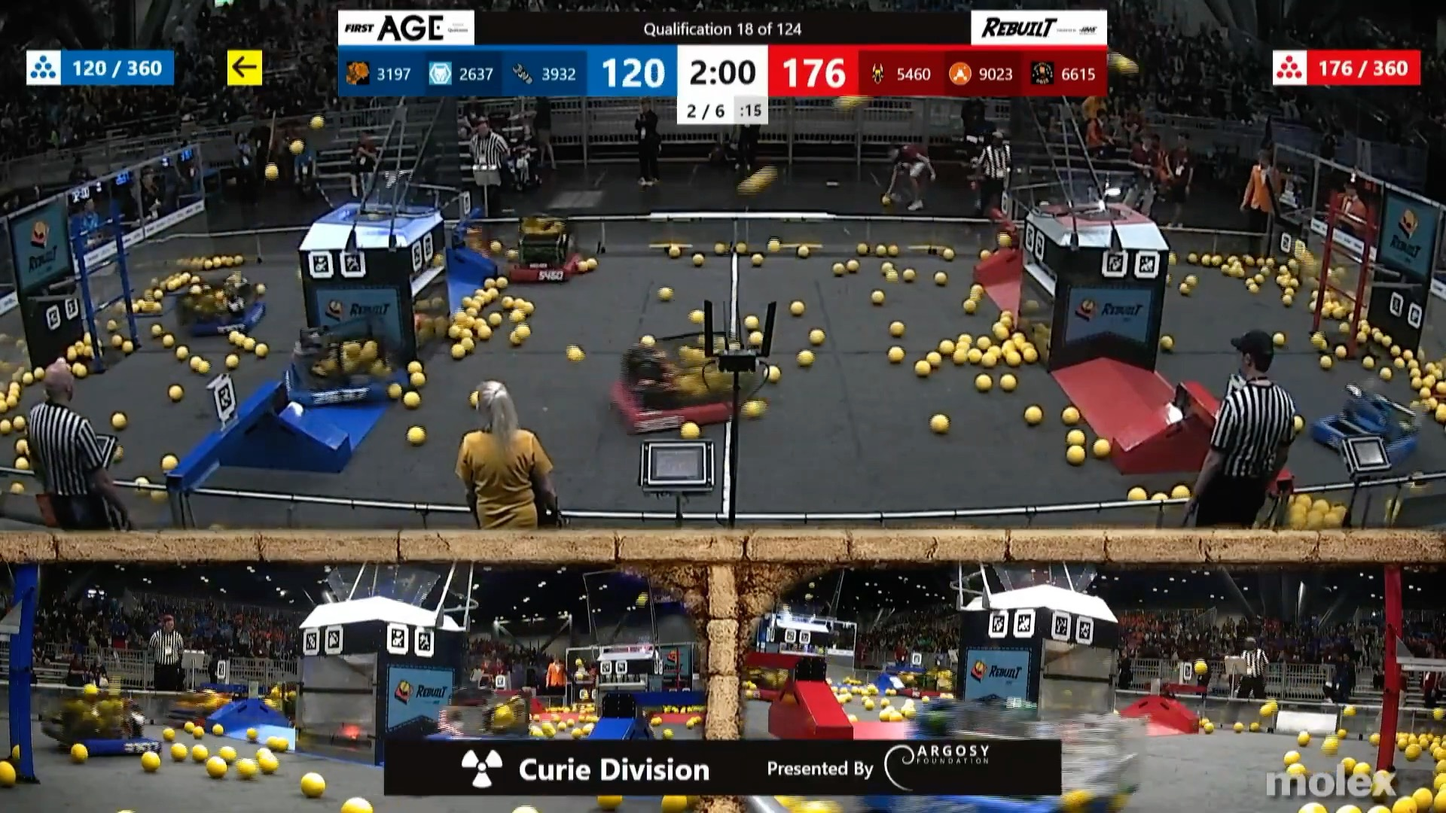bumpers: (267, 349, 429, 413), (604, 372, 744, 435), (1308, 407, 1427, 458), (169, 294, 280, 341), (485, 251, 592, 287), (77, 723, 169, 760)
